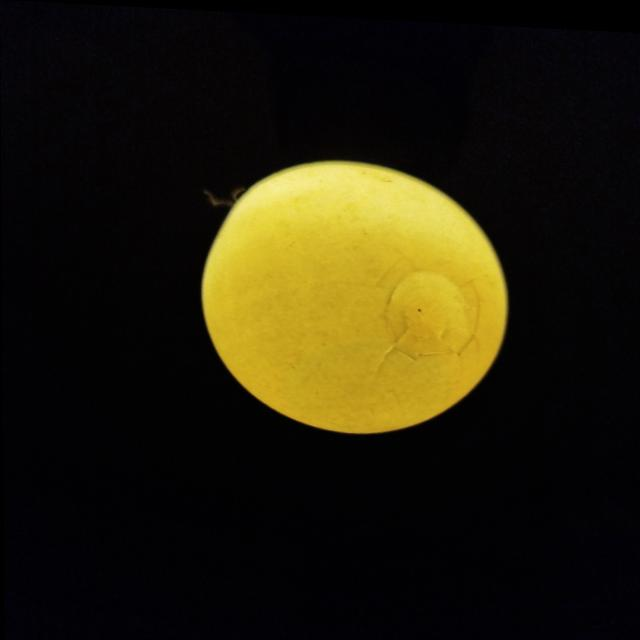Rachadura: (374, 252, 480, 371)
